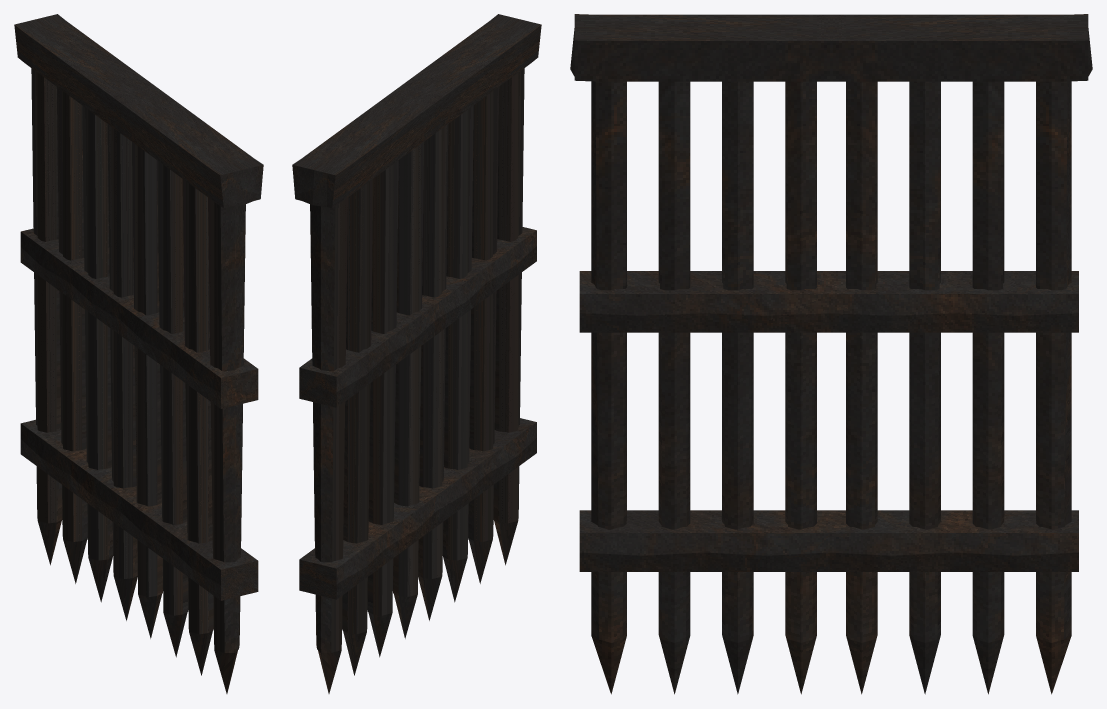
File: portcullis.glb
The picture shows the model from 3 angles, left to right: view 1: azimuth 30°, elevation 25°; view 2: azimuth 150°, elevation 25°; view 3: azimuth 270°, elevation 25°; orthographic projection. The views are drawn at different scales.
Parts seen in each view (by area): view 1: Cube, Cube.002, Cube.001; view 2: Cube, Cube.002, Cube.001; view 3: Cube, Cube.002, Cube.001.
Boxes of the visible parts, bbox=[...] form: Cube: bbox=[14, 14, 263, 693]; Cube.002: bbox=[20, 419, 258, 600]; Cube.001: bbox=[20, 228, 258, 408]; Cube: bbox=[292, 14, 541, 693]; Cube.002: bbox=[299, 418, 536, 599]; Cube.001: bbox=[299, 227, 536, 407]; Cube: bbox=[570, 14, 1092, 694]; Cube.002: bbox=[579, 510, 1078, 571]; Cube.001: bbox=[579, 271, 1078, 332].
Size of the model in its own units: 0.2064 by 2.25 by 1.59.
3 materials, 3 textured.
